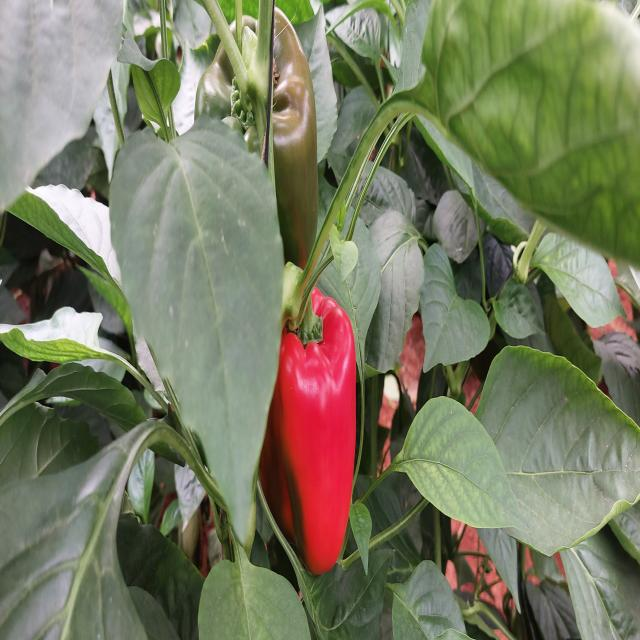BrownishRed--Can-be-Harvested: (198, 28, 328, 274)
Red-Ready-to-Harvest: (247, 301, 365, 590)
